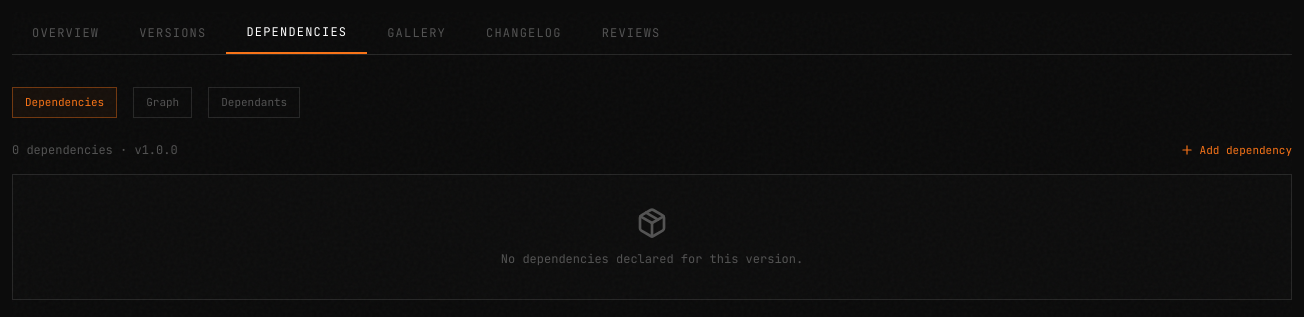
Test: PluginContent › shows graph with unresolved and optional leaf edges
Click the button "Graph" at (163, 102), box [133,87,192,118]
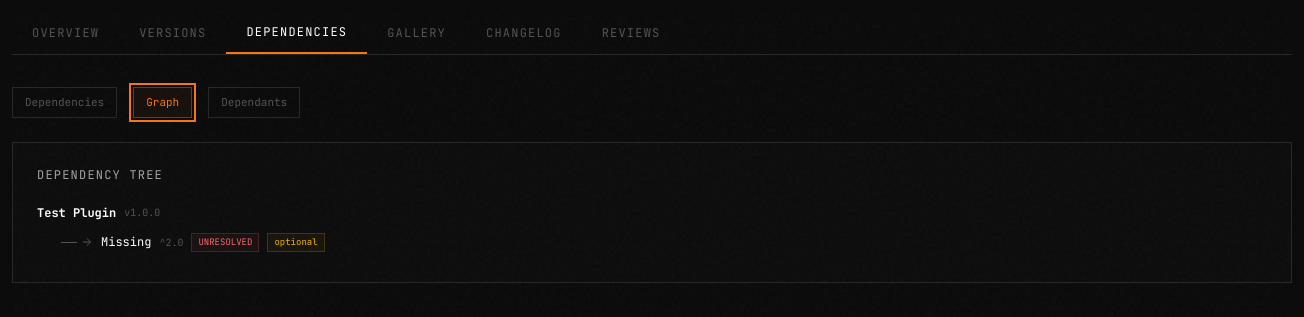
Expected: the text "UNRESOLVED" is shown, [191,232,259,252]
Expected: the text "optional" is shown, [267,232,325,252]
